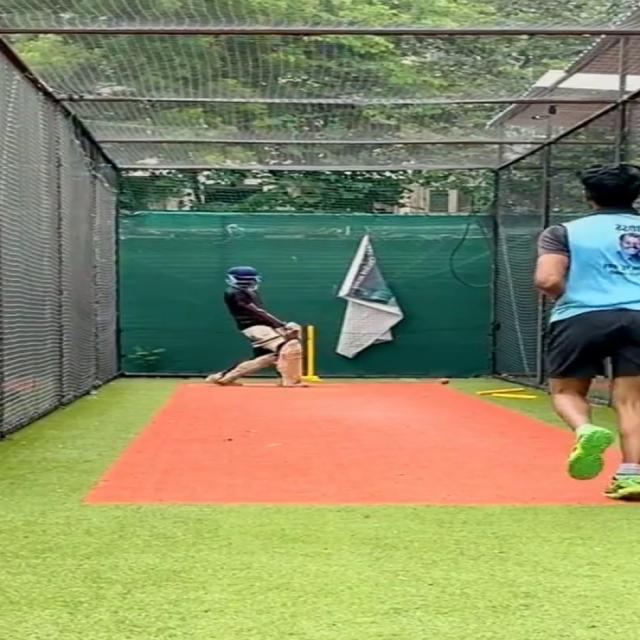ball: (440, 377, 452, 385)
stump: (296, 324, 321, 381)
